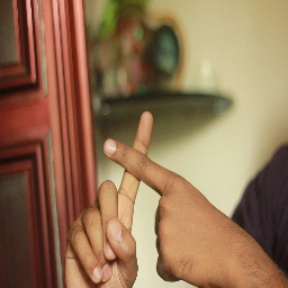X: (77, 102, 209, 232)
